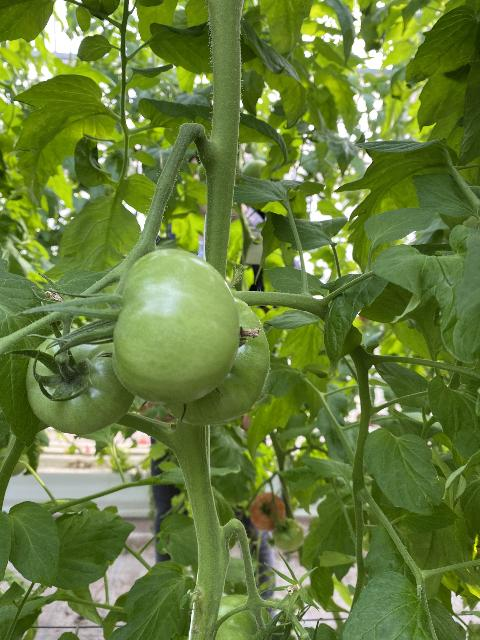b_green: (113, 248, 242, 404), (163, 295, 271, 425), (26, 329, 136, 435), (212, 595, 277, 640)
